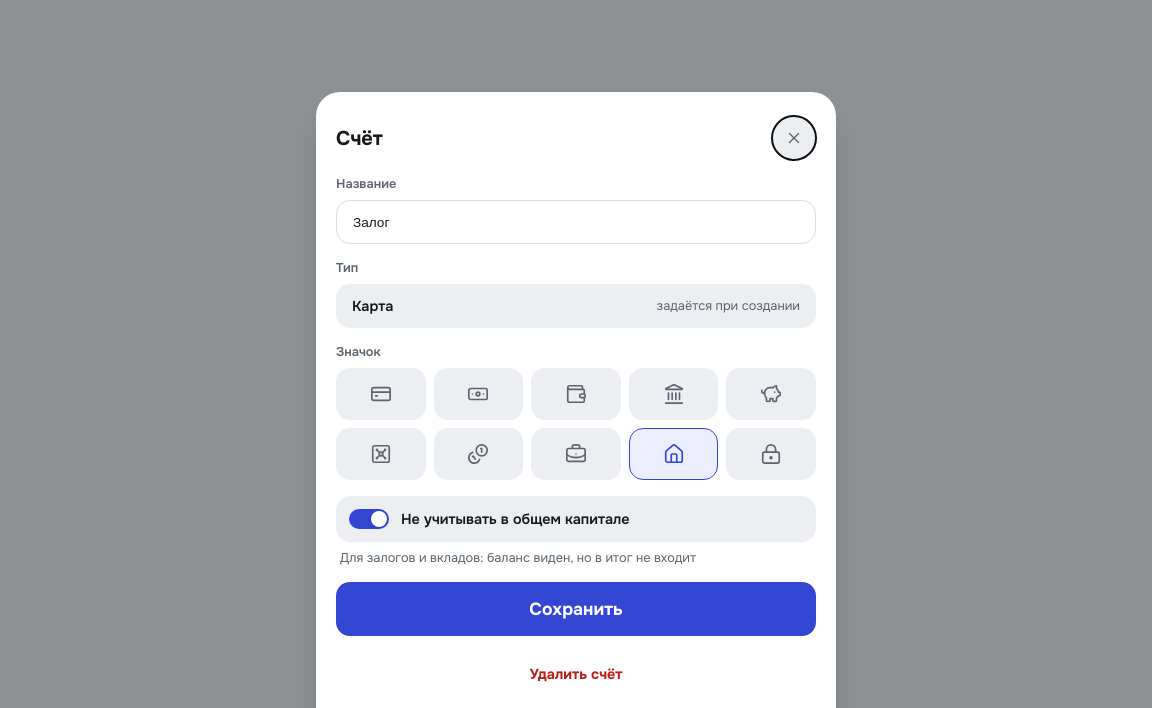
Test: AccountEditSheet › existing account › deleting › asks inline before deleting and does not use window.confirm
Click the button "Удалить счёт": (576, 674) [336,652,816,696]
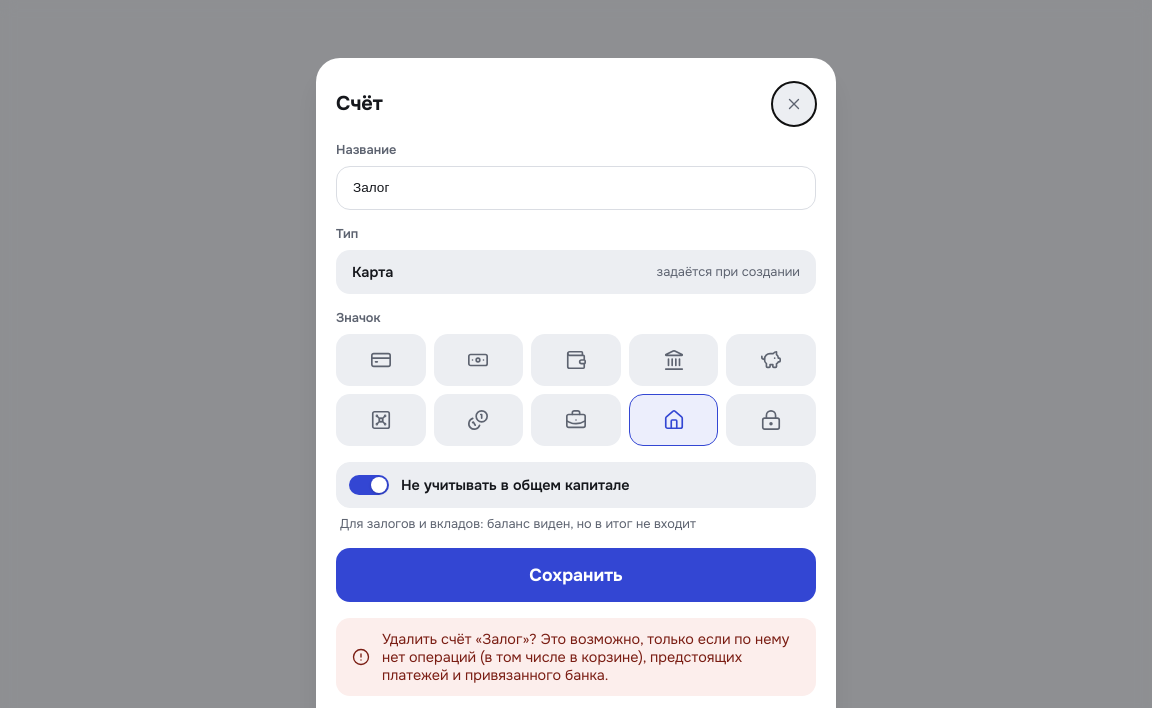
Expected: the message shows "Удалить счёт «Залог»?", [336,618,816,696]
